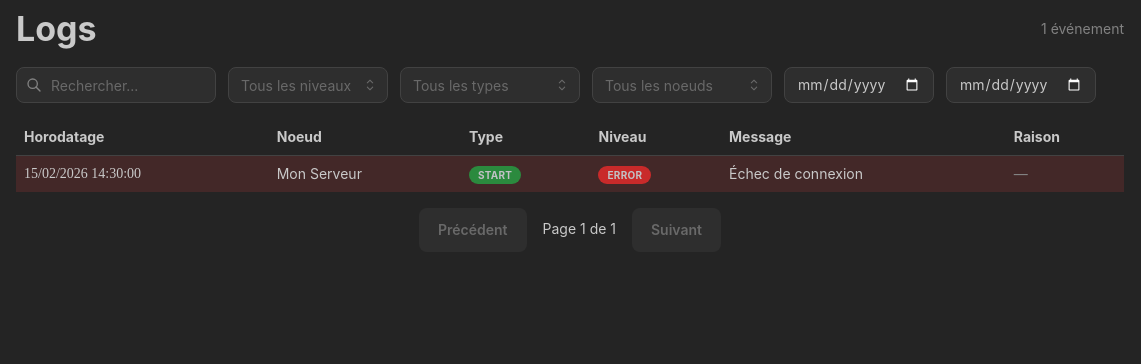
Test case: LogsPage › should show error code and details on expanded error row
This screenshot has width=1141, height=364.
Expected: the text "Échec de connexion" is shown, left=729, top=165, right=863, bottom=182
Note: Click to expand
Click the row that starts with "Mon Serveur". click: [570, 174]
box: left=16, top=155, right=1124, bottom=192
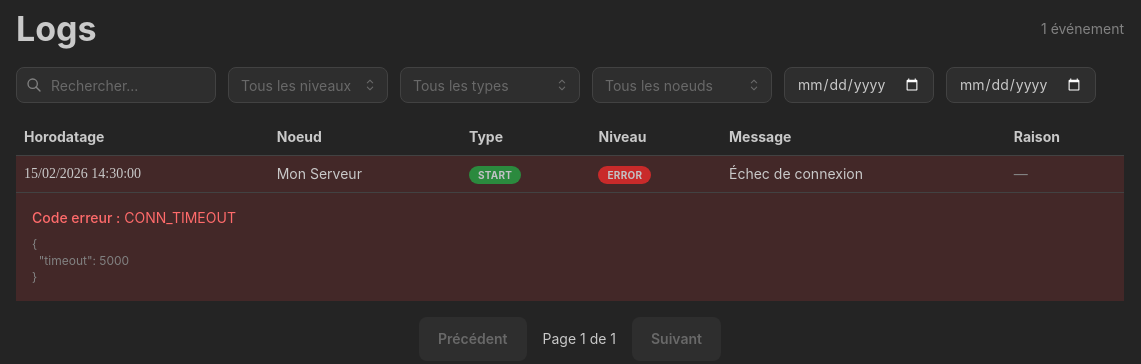
Result: the text "Code erreur : CONN_TIMEOUT" is shown at left=32, top=209, right=236, bottom=226
